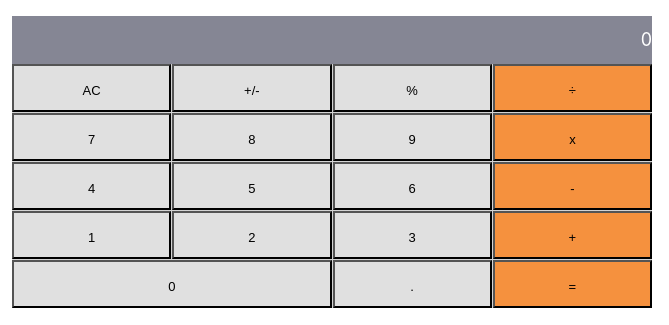
User interactions › Input 20%3= on calculator
Click the button "2".
click(252, 235)  # box [172,211,332,259]
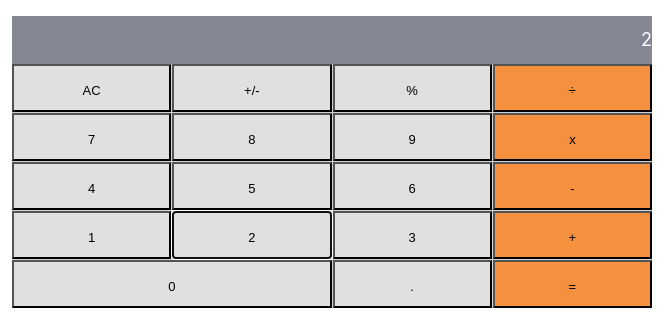
Click the button "0".
click(172, 284)  # box [12,260,332,308]
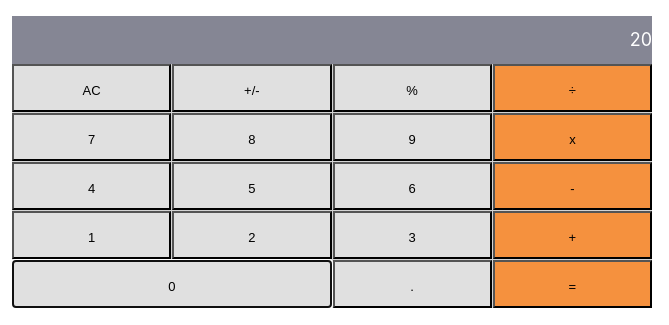
Click the button "%".
click(412, 88)  # box [332,64,492,112]
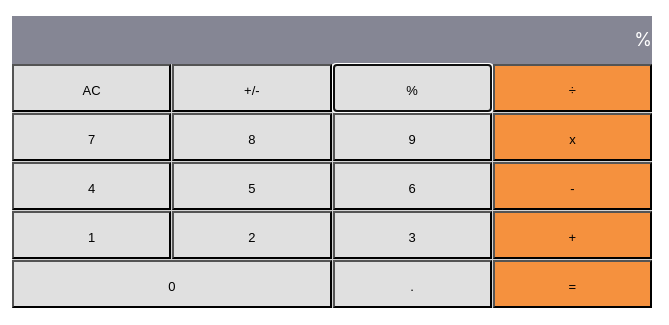
Click the button "3".
click(412, 235)  # box [332,211,492,259]
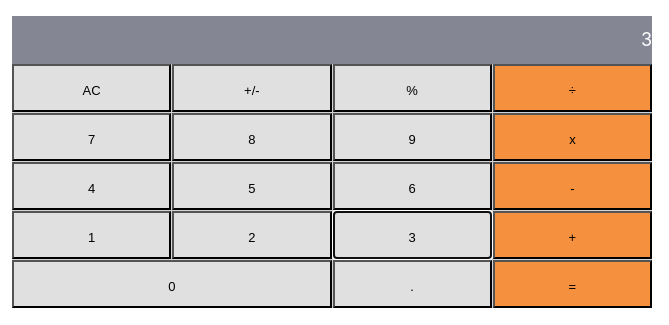
Click the button "=".
click(572, 284)  # box [493,260,652,308]
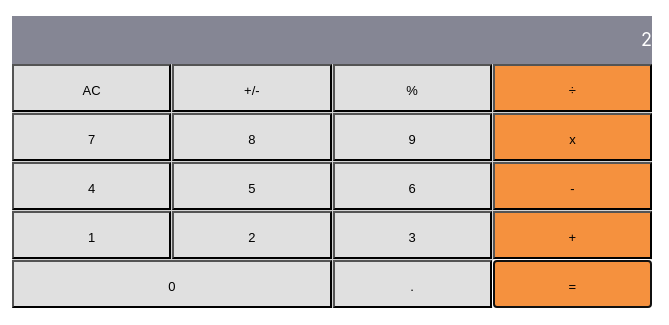
expect the text with test id "displayCalc" reads "2": met, box [641,29,652,50]
